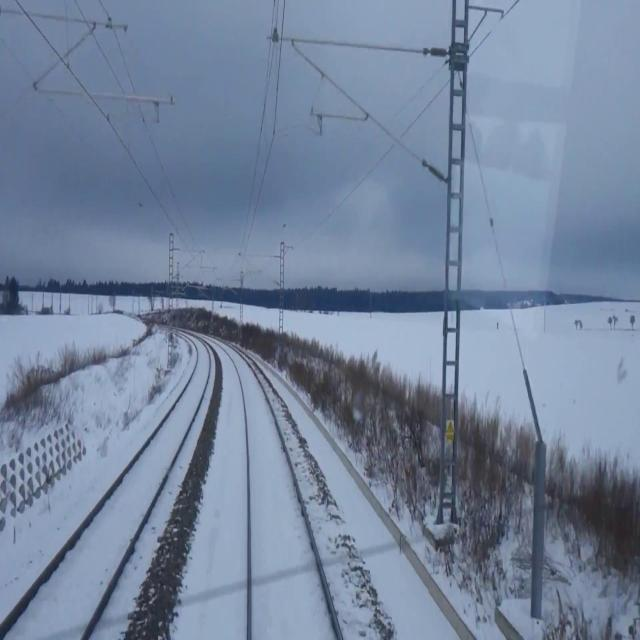rail-track: (0, 338, 208, 639), (222, 344, 338, 639)
